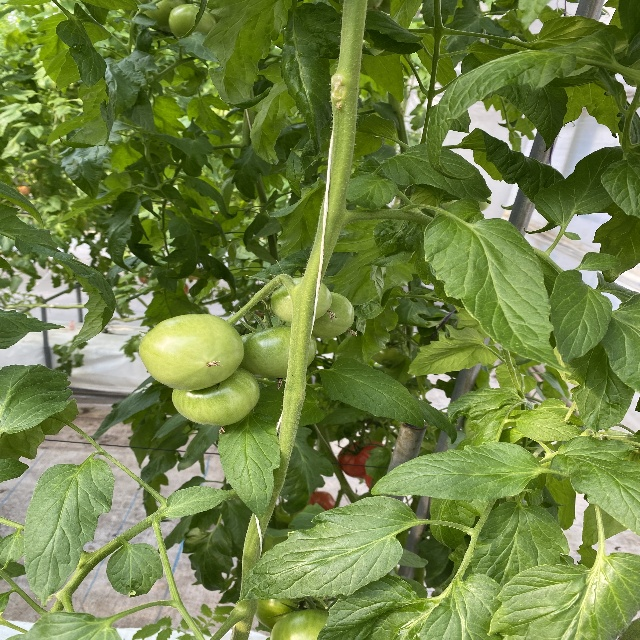b_fully_ripened: (338, 441, 385, 479)
b_green: (139, 313, 245, 391), (172, 368, 261, 426), (237, 325, 317, 380), (271, 277, 332, 324), (253, 596, 332, 631), (311, 292, 354, 338), (270, 609, 329, 640), (169, 3, 216, 39)
